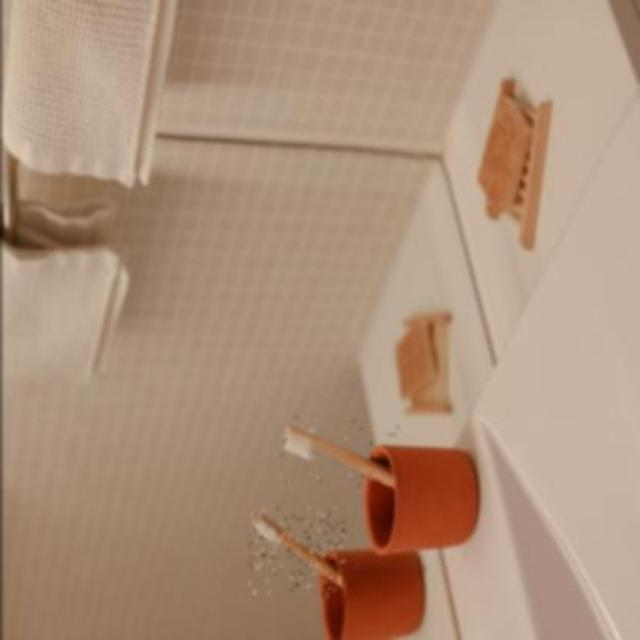toothbrush: (274, 418, 398, 490), (248, 508, 344, 596)
